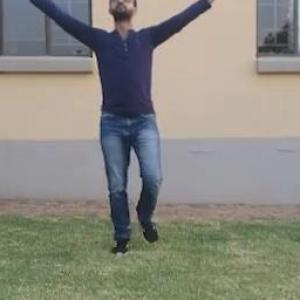takeoff: (0, 0, 256, 264)
